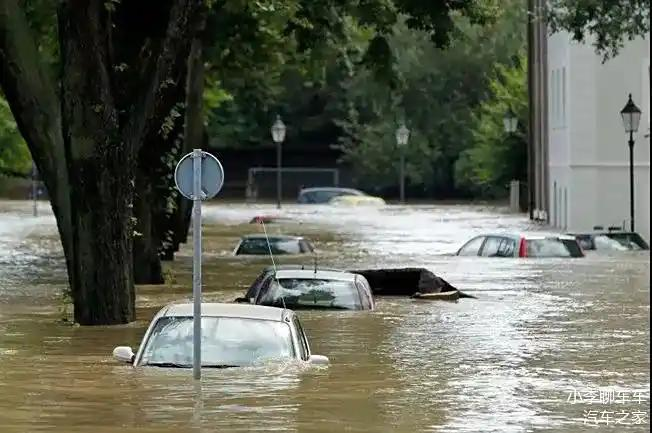water: (0, 198, 650, 431)
